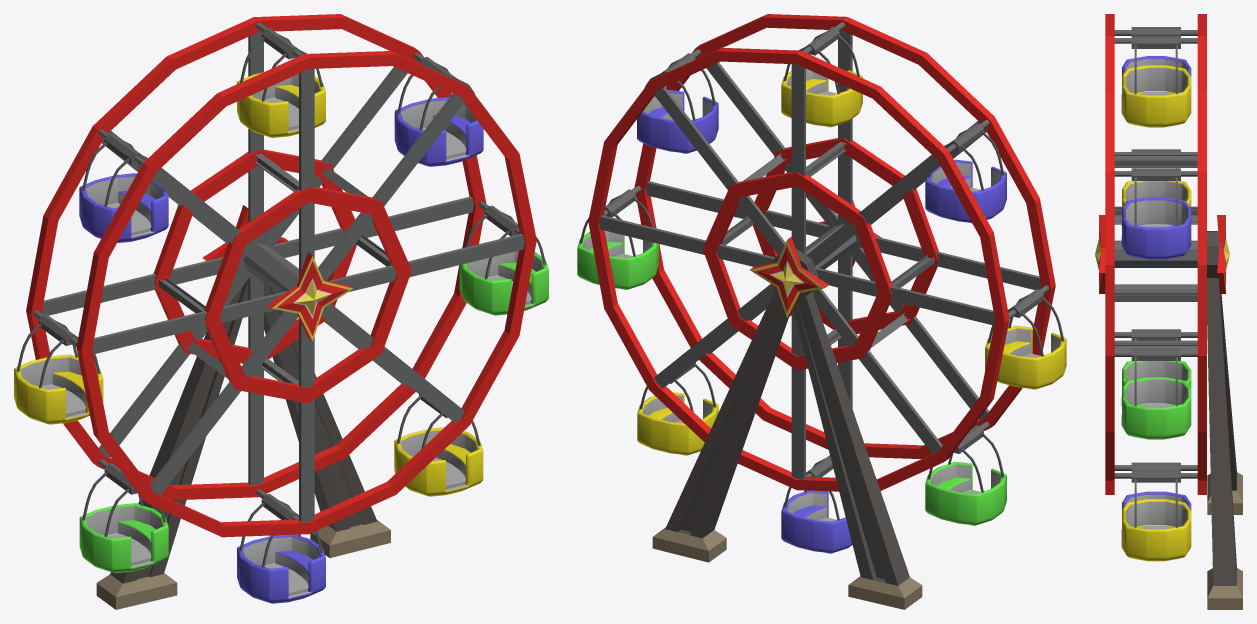
Rendered from ferrisWheel.fbx.
The picture shows the model from 3 angles, left to right: view 1: azimuth 30°, elevation 25°; view 2: azimuth 150°, elevation 25°; view 3: azimuth 270°, elevation 25°; orthographic projection. The views are drawn at different scales.
Parts seen in each view (by area): view 1: Ferris Wheel, Ferris Wheel Stand, Cab7, Cab6, Cab8, Cab1, Cab3, Cab2, Cab5, Cab4; view 2: Ferris Wheel, Ferris Wheel Stand, Cab7, Cab8, Cab6, Cab1, Cab3, Cab4, Cab2, Cab5; view 3: Ferris Wheel, Ferris Wheel Stand, Cab2, Cab3, Cab4, Cab5, Cab7, Cab8, Cab1, Cab6.
Boxes of the visible parts, left/top/right/bottom form: Ferris Wheel: left=26, top=14, right=536, bottom=537; Ferris Wheel Stand: left=96, top=205, right=390, bottom=609; Cab7: left=79, top=463, right=168, bottom=573; Cab6: left=237, top=493, right=325, bottom=603; Cab8: left=14, top=314, right=103, bottom=424; Cab1: left=79, top=133, right=168, bottom=242; Cab3: left=459, top=205, right=548, bottom=315; Cab2: left=394, top=57, right=483, bottom=166; Cab5: left=394, top=394, right=483, bottom=496; Cab4: left=237, top=28, right=325, bottom=137; Ferris Wheel: left=588, top=14, right=1055, bottom=491; Ferris Wheel Stand: left=652, top=200, right=922, bottom=609; Cab7: left=925, top=425, right=1006, bottom=525; Cab8: left=985, top=289, right=1066, bottom=389; Cab6: left=781, top=455, right=852, bottom=553; Cab1: left=925, top=123, right=1006, bottom=223; Cab3: left=577, top=189, right=658, bottom=289; Cab4: left=781, top=27, right=862, bottom=127; Cab2: left=637, top=53, right=718, bottom=153; Cab5: left=637, top=362, right=718, bottom=455; Ferris Wheel: left=1105, top=14, right=1219, bottom=494; Ferris Wheel Stand: left=1095, top=215, right=1242, bottom=609; Cab2: left=1121, top=168, right=1191, bottom=259; Cab3: left=1121, top=348, right=1191, bottom=439; Cab4: left=1121, top=36, right=1191, bottom=127; Cab5: left=1121, top=470, right=1191, bottom=561; Cab7: left=1121, top=329, right=1191, bottom=406; Cab8: left=1121, top=149, right=1191, bottom=226; Cab1: left=1121, top=27, right=1191, bottom=102; Cab6: left=1121, top=462, right=1191, bottom=536.
Size of the model in its own units: 1757 by 475 by 1814.
